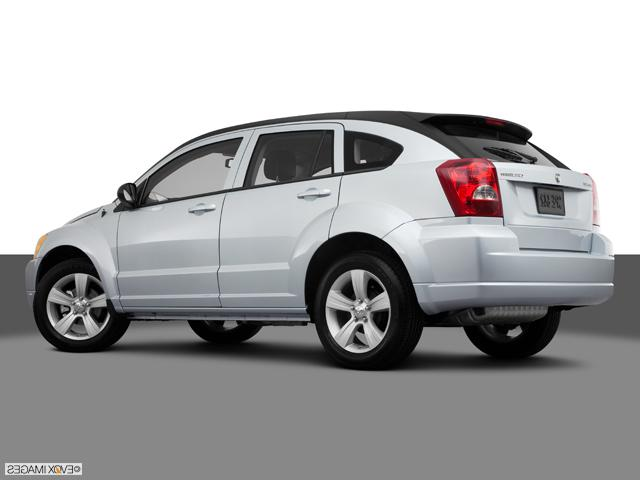Car: (12, 89, 627, 387)
